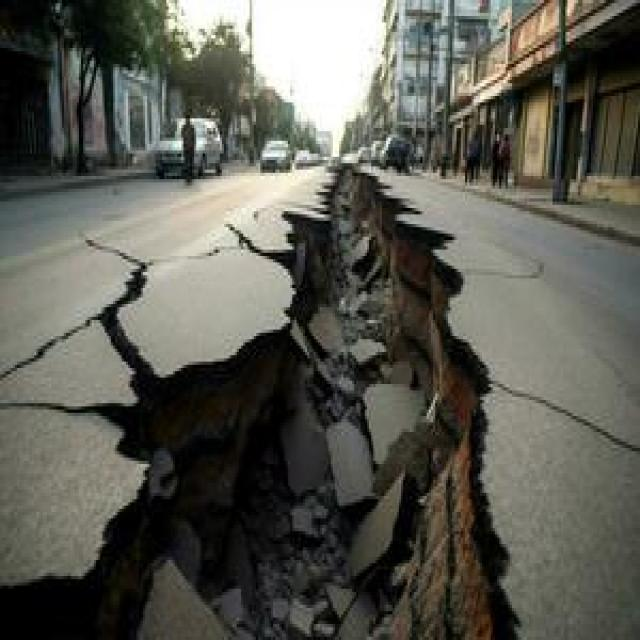road collapse: (0, 124, 640, 625)
